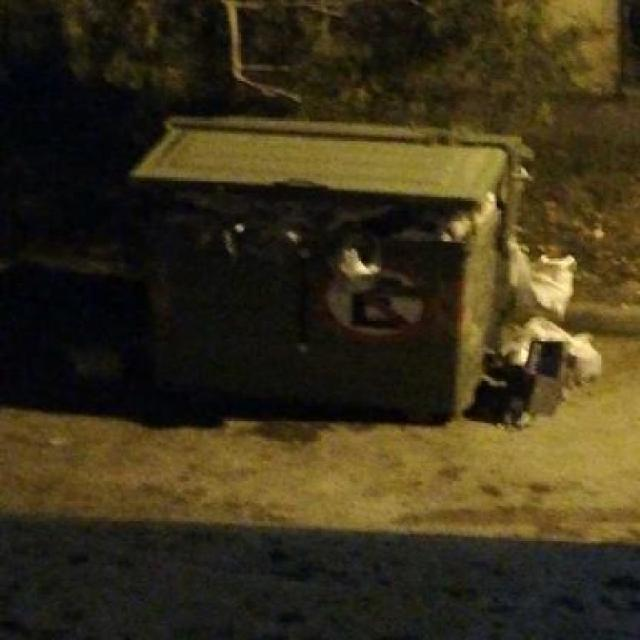garbage: (99, 185, 514, 278), (486, 209, 622, 460), (48, 318, 150, 416)
